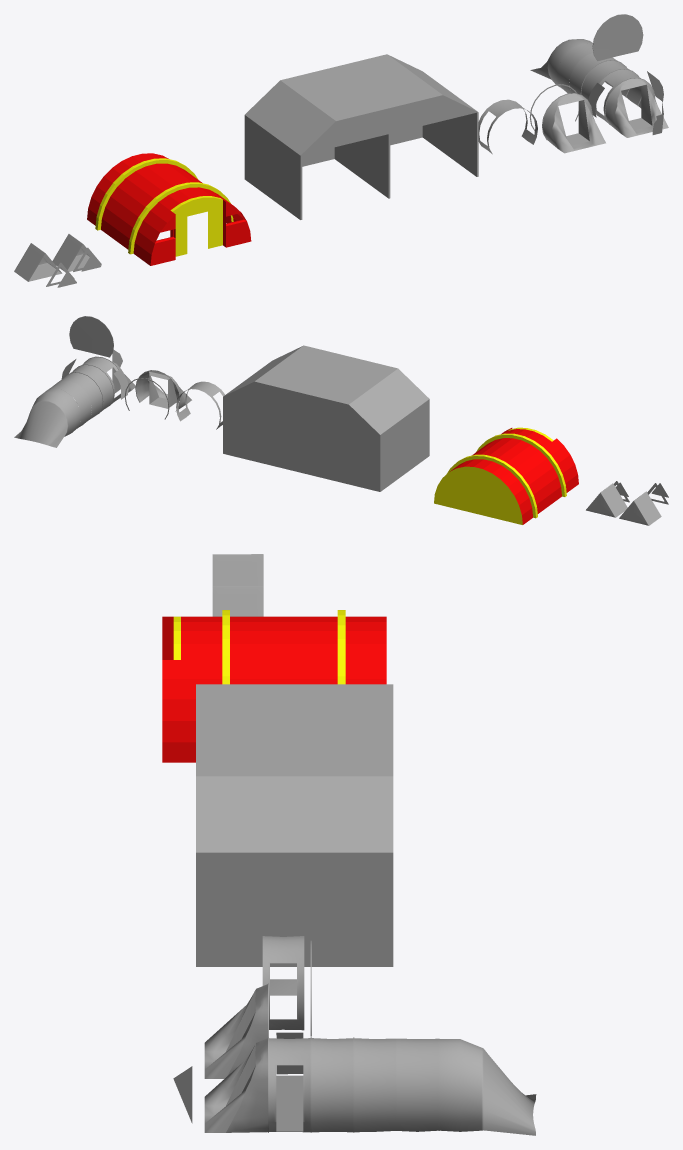
3 views of the same model, one above another, from view 1: azimuth 30°, elevation 25°; view 2: azimuth 150°, elevation 25°; view 3: azimuth 270°, elevation 25° (orthographic). The views are drawn at different scales.
Parts seen in each view (by area): view 1: pCube2, pCylinder10, holder2_ID, holder1_ID, inside_cover_ID, inside_tent3_ID, plastic_sheet4_ID, plastic_sheet6_ID, outer_tent1_ID, plastic_sheet2_ID, plastic_sheet1_ID, plastic_sheet3_ID (+1 smaller); view 2: pCube2, pCylinder10, plastic_sheet1_ID, inside_cover_ID, holder2_ID, inside_tent3_ID, outer_tent1_ID, plastic_sheet3_ID, plastic_sheet2_ID, plastic_sheet4_ID, plastic_sheet6_ID, holder1_ID (+1 smaller); view 3: pCube2, pCylinder10, plastic_sheet1_ID, holder1_ID, plastic_sheet4_ID, plastic_sheet2_ID, plastic_sheet3_ID, holder2_ID, plastic_sheet6_ID, plastic_sheet5_ID, inside_tent3_ID, screen_ID (+1 smaller).
Part boxes in pixels (x1,y1,x2,y2): pCube2: (244, 54, 478, 219); pCylinder10: (87, 153, 251, 265); holder2_ID: (529, 84, 605, 153); holder1_ID: (557, 43, 668, 137); inside_cover_ID: (592, 14, 643, 61); inside_tent3_ID: (14, 243, 62, 281); plastic_sheet4_ID: (581, 60, 641, 114); plastic_sheet6_ID: (478, 99, 537, 154); outer_tent1_ID: (52, 234, 90, 271); plastic_sheet2_ID: (557, 43, 612, 93); plastic_sheet1_ID: (530, 39, 592, 87); plastic_sheet3_ID: (569, 53, 628, 96); pCube2: (223, 345, 429, 491); pCylinder10: (434, 427, 578, 524); plastic_sheet1_ID: (14, 388, 80, 447); inside_cover_ID: (69, 316, 113, 357); holder2_ID: (124, 370, 191, 419); inside_tent3_ID: (619, 491, 661, 525); outer_tent1_ID: (586, 483, 627, 517); plastic_sheet3_ID: (59, 372, 102, 420); plastic_sheet2_ID: (48, 380, 91, 427); plastic_sheet4_ID: (65, 365, 113, 412); plastic_sheet6_ID: (176, 381, 224, 429); holder1_ID: (48, 356, 135, 428); pCube2: (196, 684, 393, 966); pCylinder10: (162, 610, 386, 762); plastic_sheet1_ID: (439, 1039, 536, 1135); holder1_ID: (204, 1037, 439, 1132); plastic_sheet4_ID: (311, 1038, 353, 1132); plastic_sheet2_ID: (396, 1038, 438, 1131); plastic_sheet3_ID: (354, 1038, 395, 1132); holder2_ID: (204, 983, 311, 1078); plastic_sheet6_ID: (262, 936, 304, 1030); plastic_sheet5_ID: (269, 1038, 310, 1132); inside_tent3_ID: (212, 554, 263, 586); screen_ID: (276, 1075, 303, 1131).
Size of the model in its own units: 39.58 by 5.58 by 11.56.
